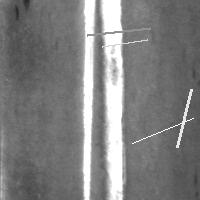scratches: (92, 1, 127, 199), (81, 1, 97, 198), (127, 113, 198, 148), (172, 84, 196, 152), (82, 23, 155, 40), (97, 35, 152, 52)
